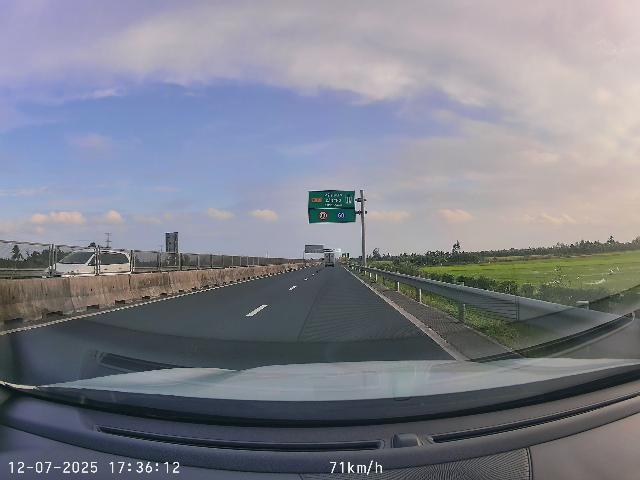127-toc-do-toi-da-90: (318, 210, 328, 221)
306-toc-do-toi-thieu-60: (336, 210, 346, 220)
437-bat-dau-duong-cao-toc: (345, 195, 352, 204)
